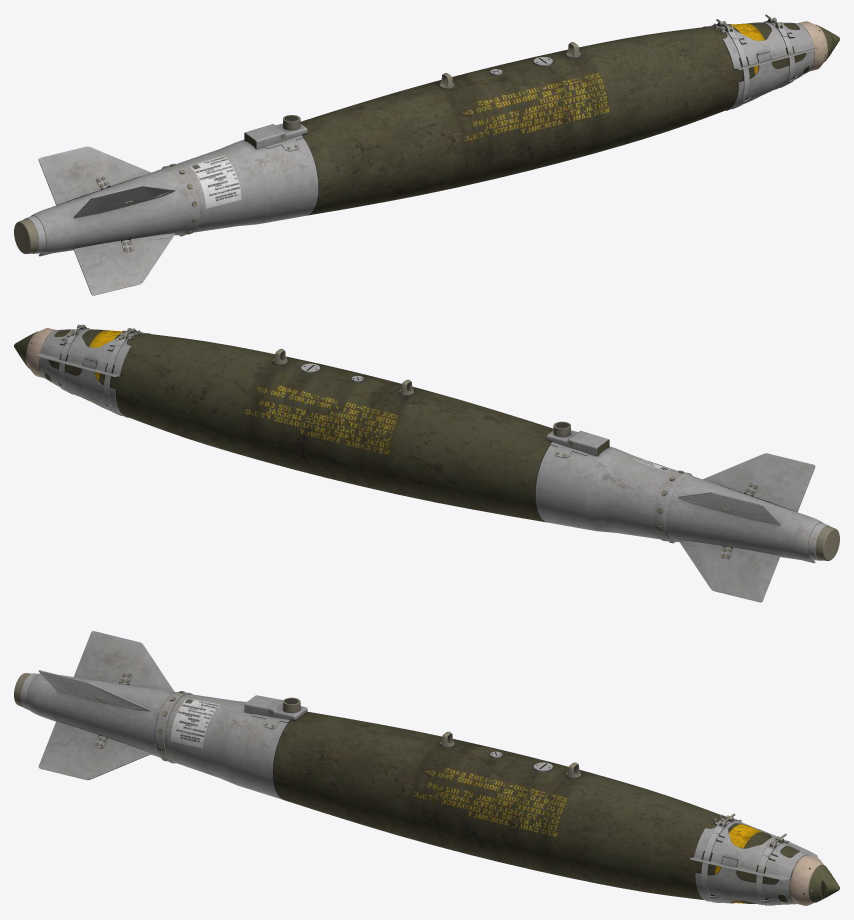
The model's file is gbu-38-jdam.glb.
3 views of the same model, one above another, from view 1: azimuth 30°, elevation 25°; view 2: azimuth 150°, elevation 25°; view 3: azimuth 330°, elevation 25° (orthographic).
Visible parts, largest first — view 1: Object_2; view 2: Object_2; view 3: Object_2.
Part boxes in pixels (<box>): Object_2: <box>14,14,839,295</box>; Object_2: <box>14,324,839,602</box>; Object_2: <box>14,631,839,905</box>.
Bounding box in the file's own units: 2.35 × 0.3009 × 0.272.
1 material, 1 textured.
